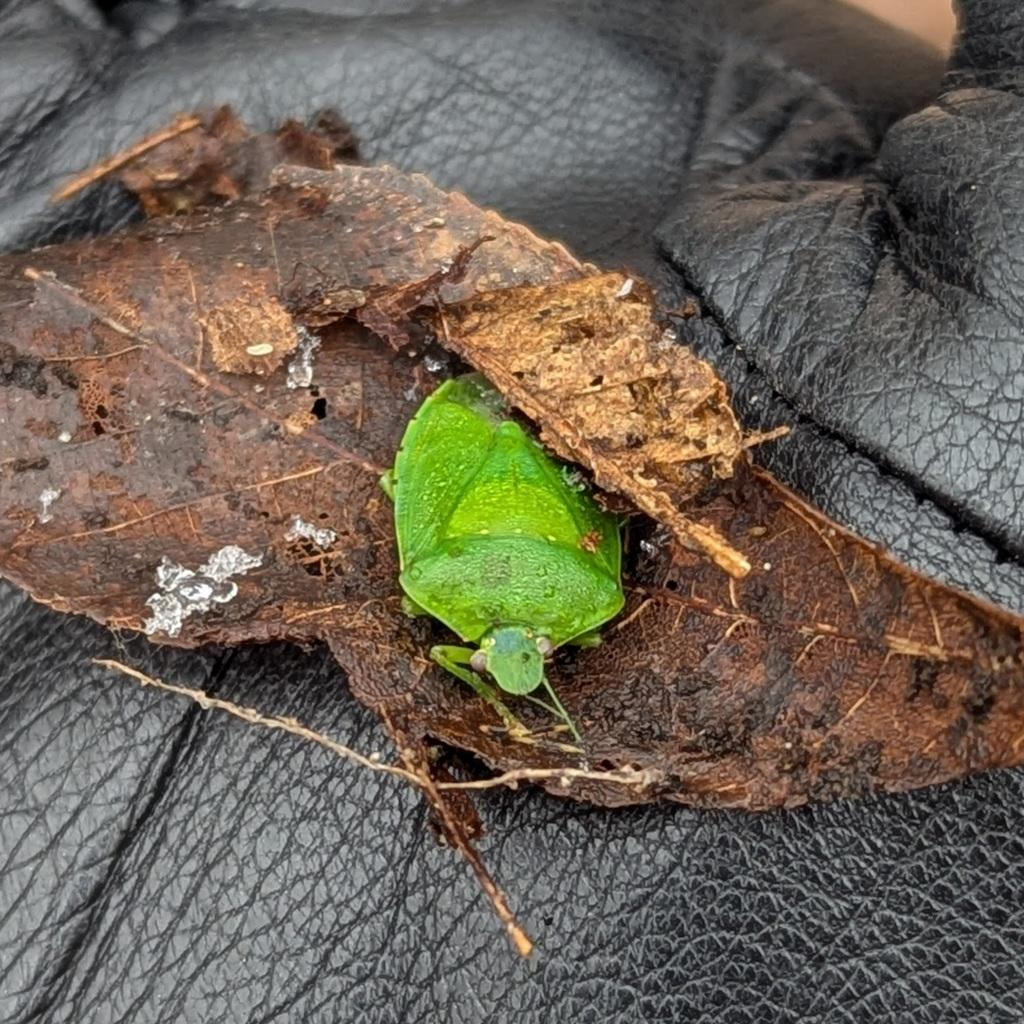stink_bugs: (346, 325, 681, 791)
